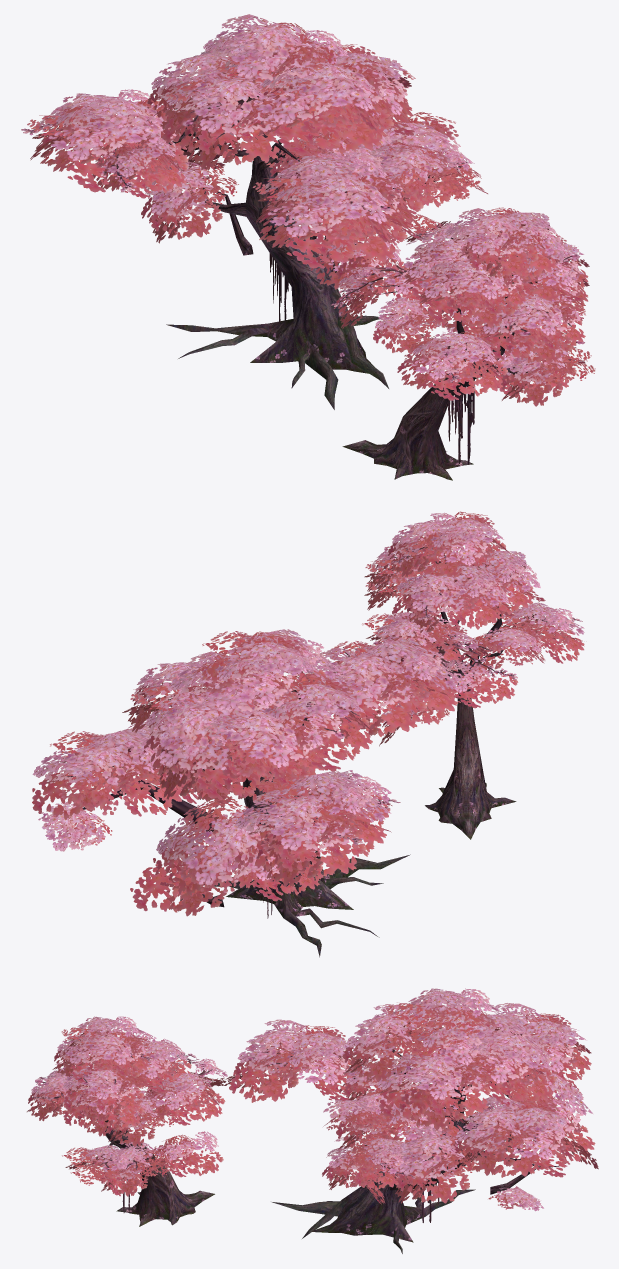
The model's file is tao_shu_001.FBX.
3 views of the same model, one above another, from view 1: azimuth 30°, elevation 25°; view 2: azimuth 150°, elevation 25°; view 3: azimuth 270°, elevation 25° (orthographic). The views are drawn at different scales.
Parts seen in each view (by area): view 1: tao_shu_001_a, tao_shu_001_b; view 2: tao_shu_001_a, tao_shu_001_b; view 3: tao_shu_001_a, tao_shu_001_b.
Part boxes in pixels (x1,y1,x2,y2): tao_shu_001_a: (21,14,487,409); tao_shu_001_b: (331,207,595,480); tao_shu_001_a: (32,629,462,957); tao_shu_001_b: (362,511,584,839); tao_shu_001_a: (229,988,598,1253); tao_shu_001_b: (27,1016,242,1226).
Size of the model in its own units: 527 by 382 by 869.
